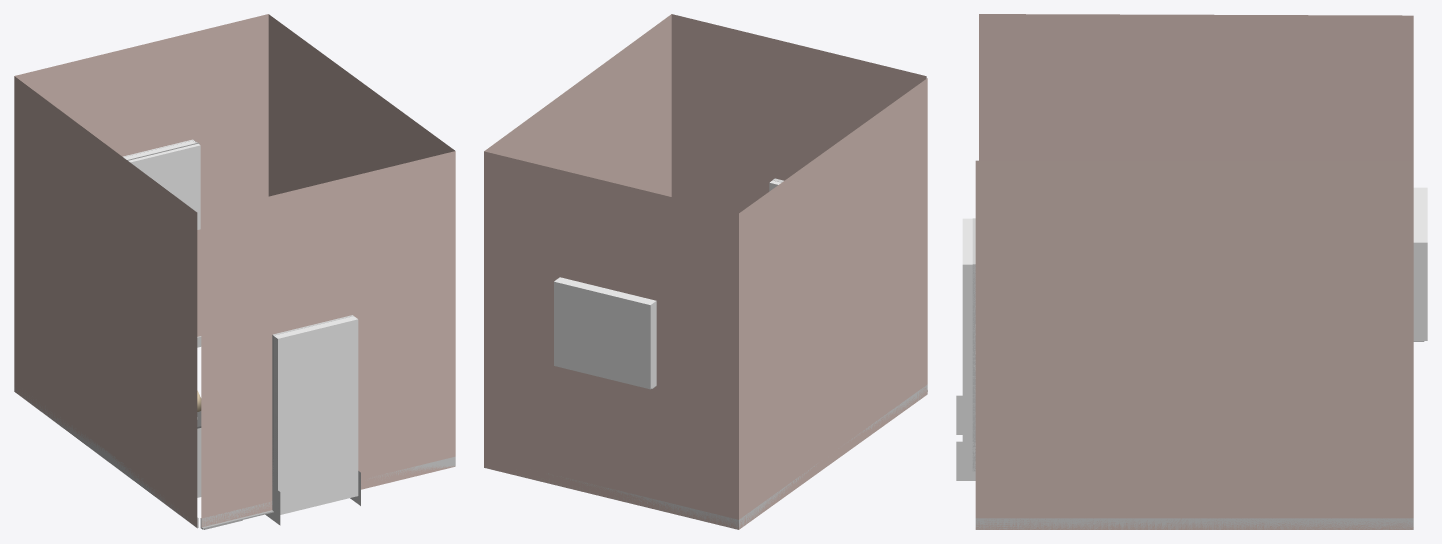
File: room.fbx
3 views of the same model, side by side, from view 1: azimuth 30°, elevation 25°; view 2: azimuth 150°, elevation 25°; view 3: azimuth 270°, elevation 25° (orthographic). The views are drawn at different scales.
Parts seen in each view (by area): view 1: Room, CTRL_Hole, CTRL_Hole.001, Baseboard; view 2: Room, CTRL_Hole.001, Baseboard; view 3: Room, Baseboard, CTRL_Hole, CTRL_Hole.001, CTRL_Baseboard, DoorFrame.
Part boxes in pixels (x1=…): Room: x1=14, y1=14, x2=455, y2=527; CTRL_Hole: x1=272, y1=316, x2=358, y2=514; CTRL_Hole.001: x1=123, y1=139, x2=200, y2=229; Baseboard: x1=14, y1=336, x2=455, y2=528; Room: x1=484, y1=14, x2=927, y2=529; CTRL_Hole.001: x1=554, y1=277, x2=656, y2=389; Baseboard: x1=487, y1=384, x2=927, y2=529; Room: x1=975, y1=14, x2=1413, y2=529; Baseboard: x1=975, y1=518, x2=1413, y2=529; CTRL_Hole: x1=962, y1=218, x2=975, y2=471; CTRL_Hole.001: x1=1413, y1=187, x2=1427, y2=340; CTRL_Baseboard: x1=956, y1=395, x2=975, y2=480; DoorFrame: x1=972, y1=218, x2=975, y2=471.
Size of the model in its own units: 319 by 385 by 434.
